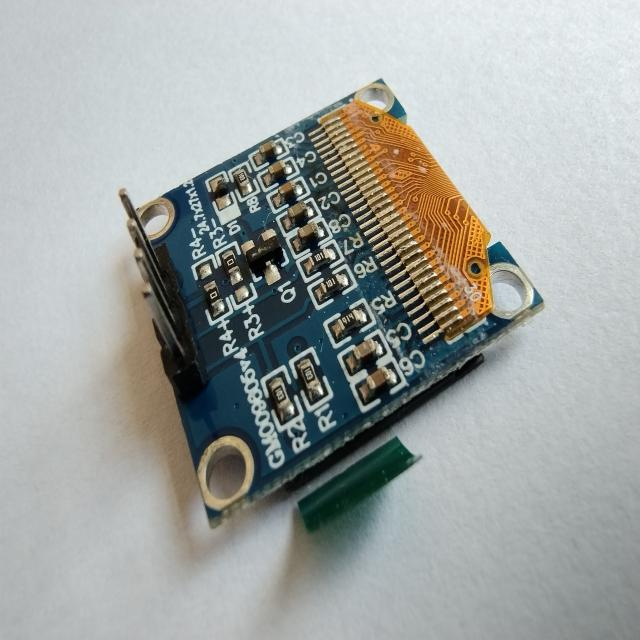oled: (114, 58, 548, 560)
